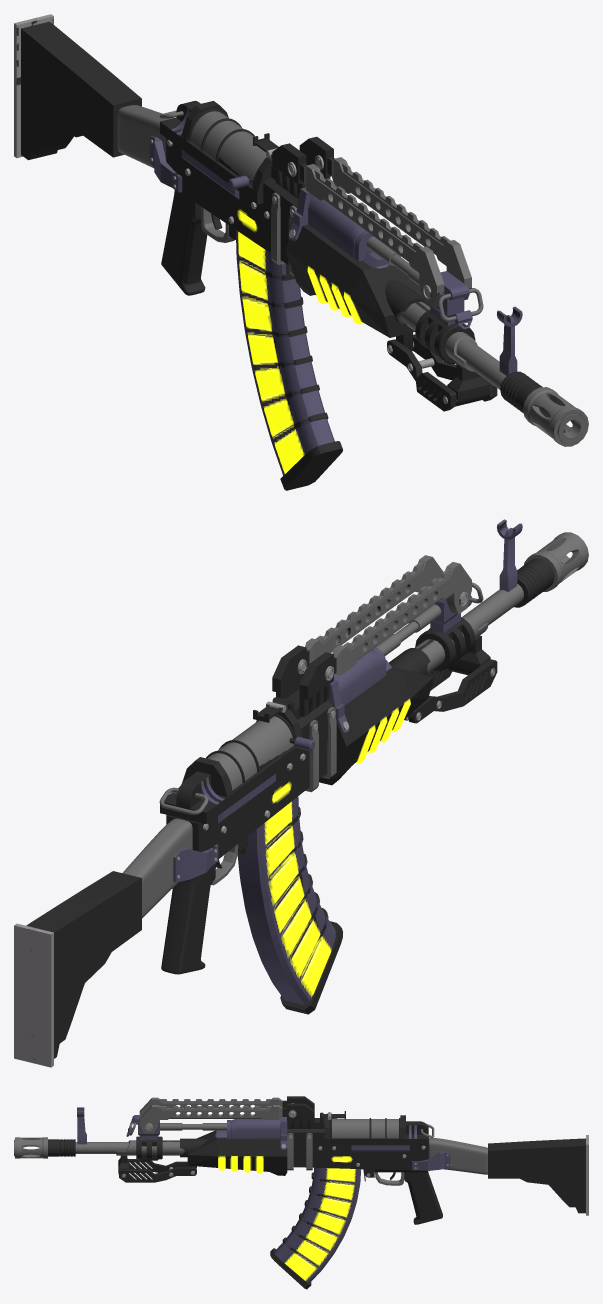
Rendered from Avtomat.fbx.
3 renders of one model, top to bottom at view 1: azimuth 30°, elevation 25°; view 2: azimuth 150°, elevation 25°; view 3: azimuth 270°, elevation 25°, orthographic. The views are drawn at different scales.
Parts seen in each view (by area): view 1: Cube.023; view 2: Cube.023; view 3: Cube.023.
Boxes of the visible parts, bbox=[...] form: Cube.023: bbox=[14, 14, 588, 490]; Cube.023: bbox=[14, 519, 588, 1067]; Cube.023: bbox=[14, 1096, 588, 1289].
Size of the model in its own units: 0.0786 by 0.3569 by 1.
1 material, 1 textured.
